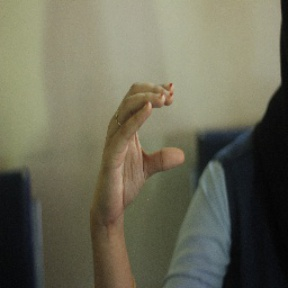C: (108, 73, 200, 187)
